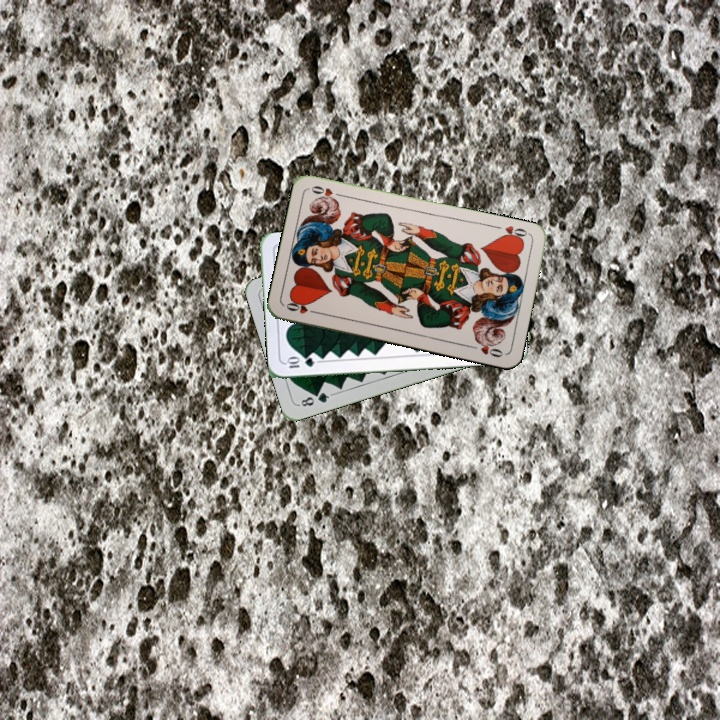G10: (283, 354, 317, 371)
G8: (295, 388, 335, 409)
HO: (497, 221, 532, 244), (282, 297, 322, 316)
